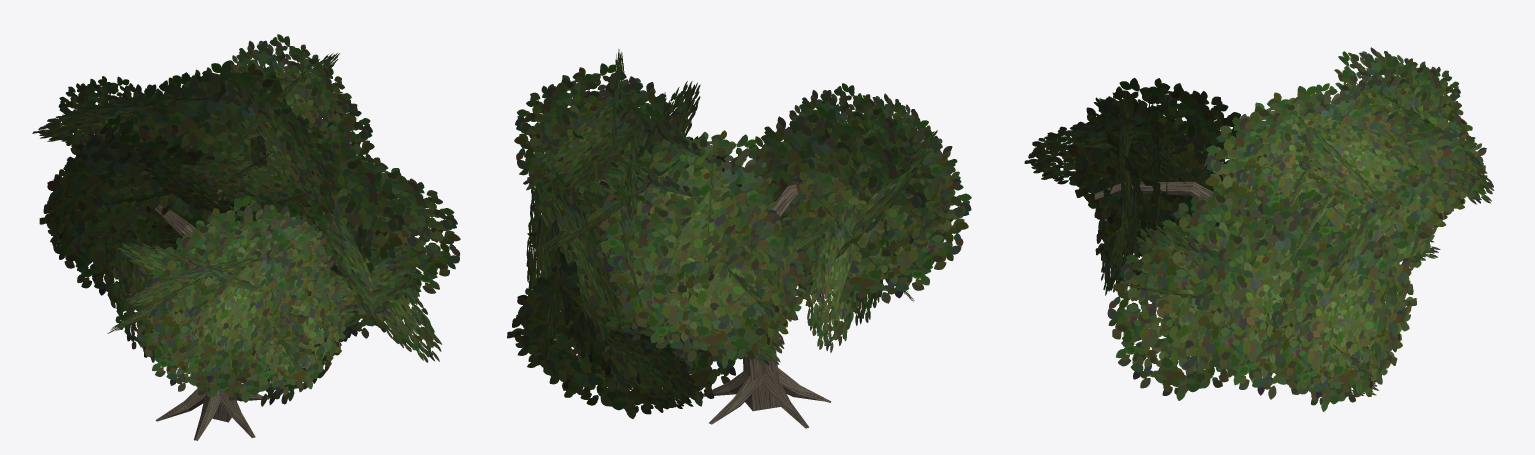
File: TwistedTree_4_LOD2.gltf
The picture shows the model from 3 angles, left to right: view 1: azimuth 30°, elevation 25°; view 2: azimuth 150°, elevation 25°; view 3: azimuth 270°, elevation 25°; orthographic projection. The views are drawn at different scales.
Visible parts, largest first — view 1: TwistedTree_4_LOD2; view 2: TwistedTree_4_LOD2; view 3: TwistedTree_4_LOD2.
Boxes of the visible parts, x1,y1,x2,y2 form: TwistedTree_4_LOD2: (32, 34, 460, 440); TwistedTree_4_LOD2: (507, 49, 971, 428); TwistedTree_4_LOD2: (1024, 47, 1494, 411).
Size of the model in its own units: 19.85 by 15.91 by 21.8.
2 materials, 2 textured.
